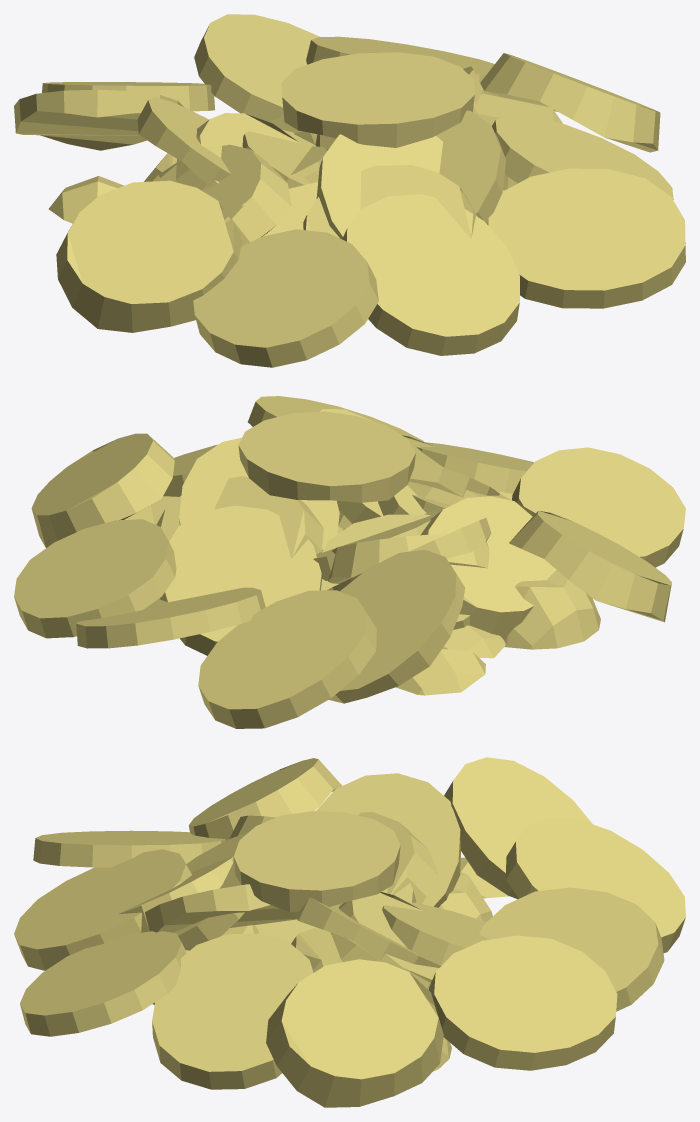
File: patates_cut_high.fbx
3 views of the same model, one above another, from view 1: azimuth 30°, elevation 25°; view 2: azimuth 150°, elevation 25°; view 3: azimuth 270°, elevation 25° (orthographic). The views are drawn at different scales.
Parts seen in each view (by area): view 1: Cube_5_5, Cube_2_5, Cube_4_7, Cube_5_7, Cube_3_6, Cube_5_3, Cube_2_2, Cube_3_3, Cube_4_6, Cube_2_7, Cube_3_7, Cube_3 (+10 smaller); view 2: Cube_4_3, Cube_5_2, Cube_3_6, Cube_5_7, Cube_4_2, Cube_3_3, Cube_2_2, Cube_2_7, Cube_2_5, Cube_5_3, Cube_1_4, Cube_3_2 (+15 smaller); view 3: Cube_2_2, Cube_5_2, Cube_4_6, Cube_3_6, Cube_4_3, Cube_5_5, Cube_4_7, Cube_5_3, Cube_3_3, Cube_3_5, Cube_2_5, Cube_5_7 (+11 smaller).
Part boxes in pixels (bbox=[...]): Cube_5_5: bbox=[487, 168, 685, 308]; Cube_2_5: bbox=[56, 180, 242, 332]; Cube_4_7: bbox=[342, 194, 519, 355]; Cube_5_7: bbox=[193, 229, 378, 367]; Cube_3_6: bbox=[281, 52, 474, 147]; Cube_5_3: bbox=[194, 14, 319, 121]; Cube_2_2: bbox=[480, 53, 660, 152]; Cube_3_3: bbox=[14, 89, 183, 150]; Cube_4_6: bbox=[492, 114, 673, 199]; Cube_2_7: bbox=[152, 144, 291, 249]; Cube_3_7: bbox=[316, 134, 443, 239]; Cube_3: bbox=[436, 110, 505, 223]; Cube_4_3: bbox=[198, 590, 376, 728]; Cube_5_2: bbox=[14, 519, 176, 638]; Cube_3_6: bbox=[238, 411, 415, 502]; Cube_5_7: bbox=[512, 447, 685, 567]; Cube_4_2: bbox=[159, 505, 321, 655]; Cube_3_3: bbox=[329, 549, 464, 703]; Cube_2_2: bbox=[31, 433, 174, 547]; Cube_2_7: bbox=[420, 496, 556, 640]; Cube_2_5: bbox=[509, 510, 671, 622]; Cube_5_3: bbox=[76, 587, 265, 648]; Cube_1_4: bbox=[504, 570, 600, 649]; Cube_3_2: bbox=[179, 437, 339, 549]; Cube_2_2: bbox=[266, 959, 443, 1107]; Cube_5_2: bbox=[429, 935, 617, 1070]; Cube_4_6: bbox=[152, 933, 313, 1089]; Cube_3_6: bbox=[233, 811, 400, 912]; Cube_4_3: bbox=[506, 818, 685, 952]; Cube_5_5: bbox=[20, 931, 186, 1036]; Cube_4_7: bbox=[14, 849, 191, 970]; Cube_5_3: bbox=[479, 887, 664, 1011]; Cube_3_3: bbox=[444, 757, 592, 899]; Cube_3_5: bbox=[316, 773, 460, 907]; Cube_2_5: bbox=[188, 758, 342, 840]; Cube_5_7: bbox=[33, 830, 225, 867].
Size of the model in its own units: 103 by 22.1 by 101.
